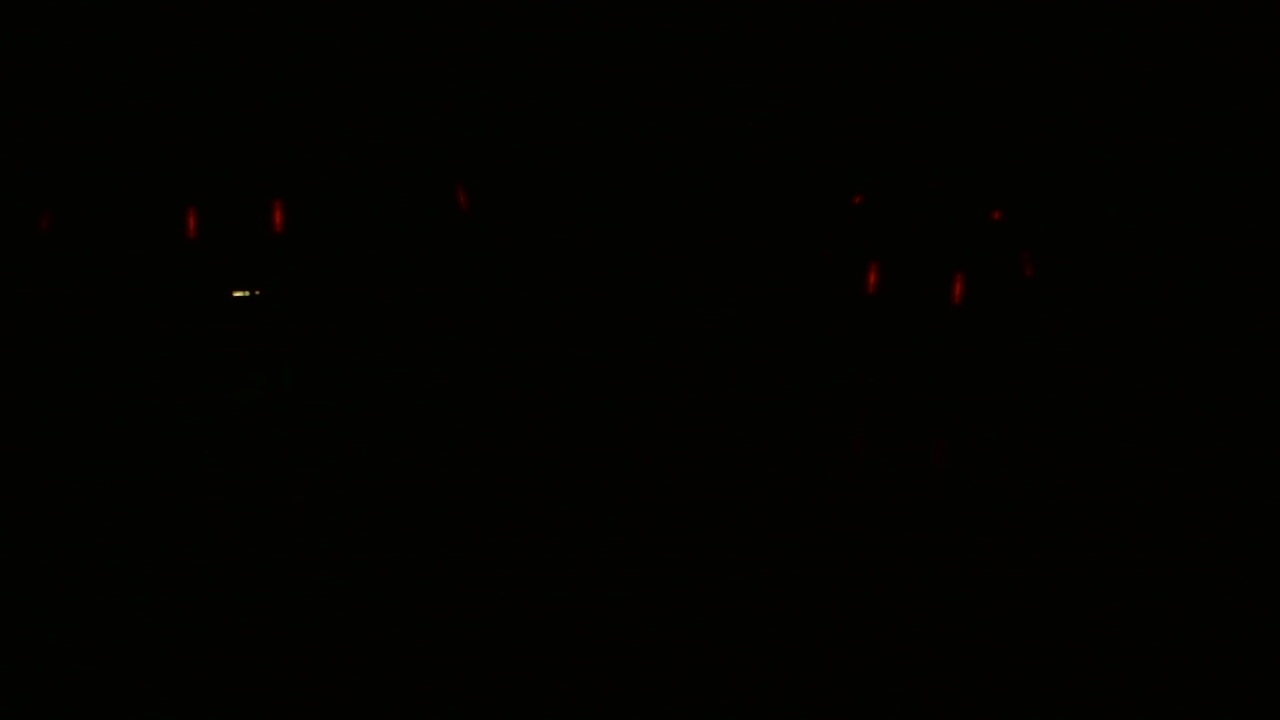pair1: (866, 257, 964, 317), (183, 195, 288, 237)
